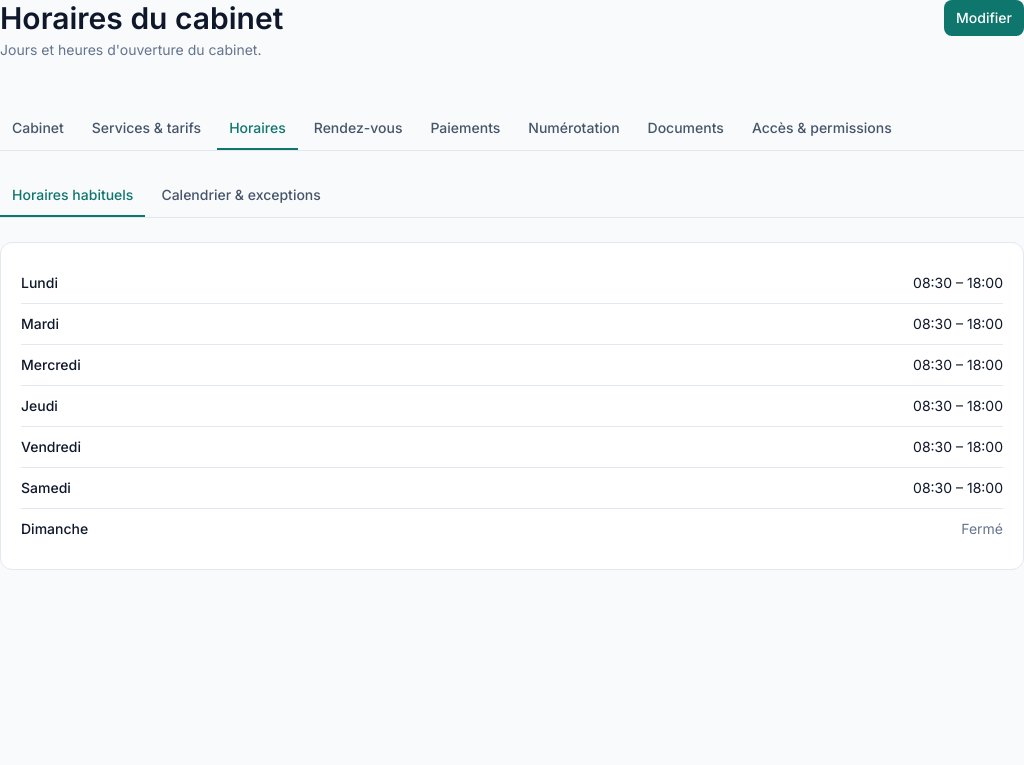
Test case: WorkingHoursPage › Modifier reveals an editable weekly form pre-filled with current values
What coordinates should you click on to do the following:
click the button "Modifier"
I would click on:
 (984, 18)
Its box is [944,0,1023,36].
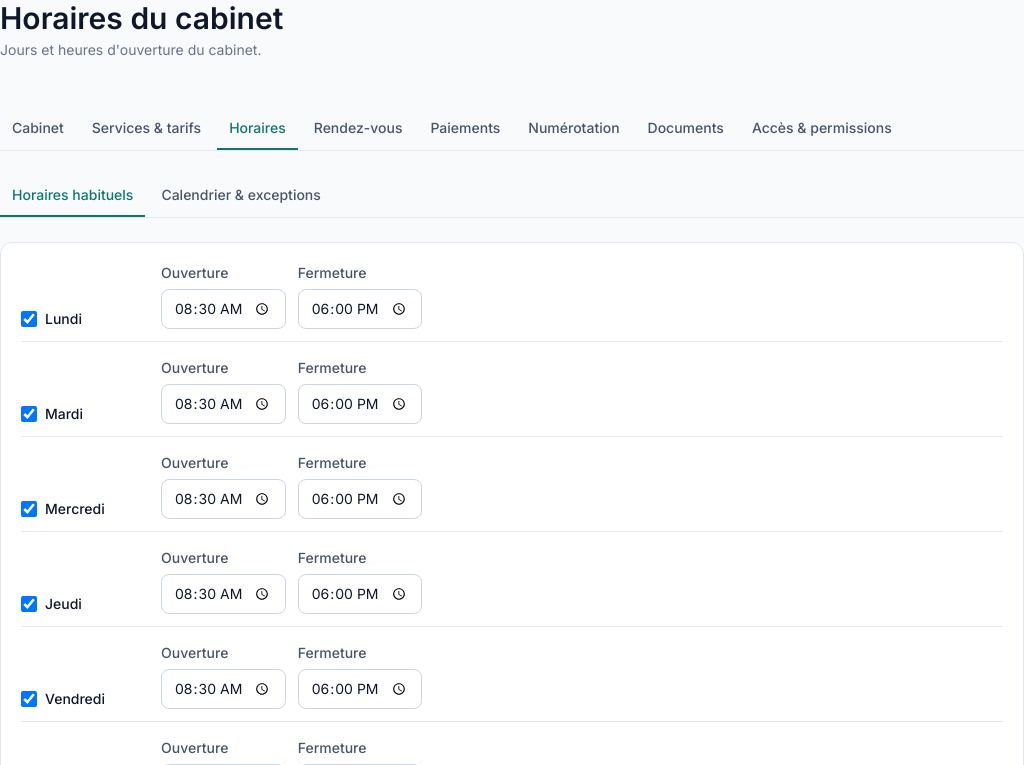
Expected: the time field labelled "Ouverture" next to "Lundi" holds "08:30", [161,289,286,329]
